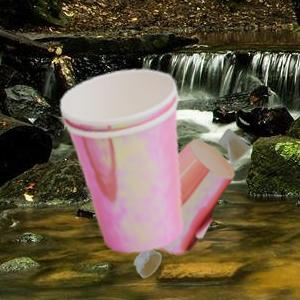cup: (61, 66, 186, 254)
